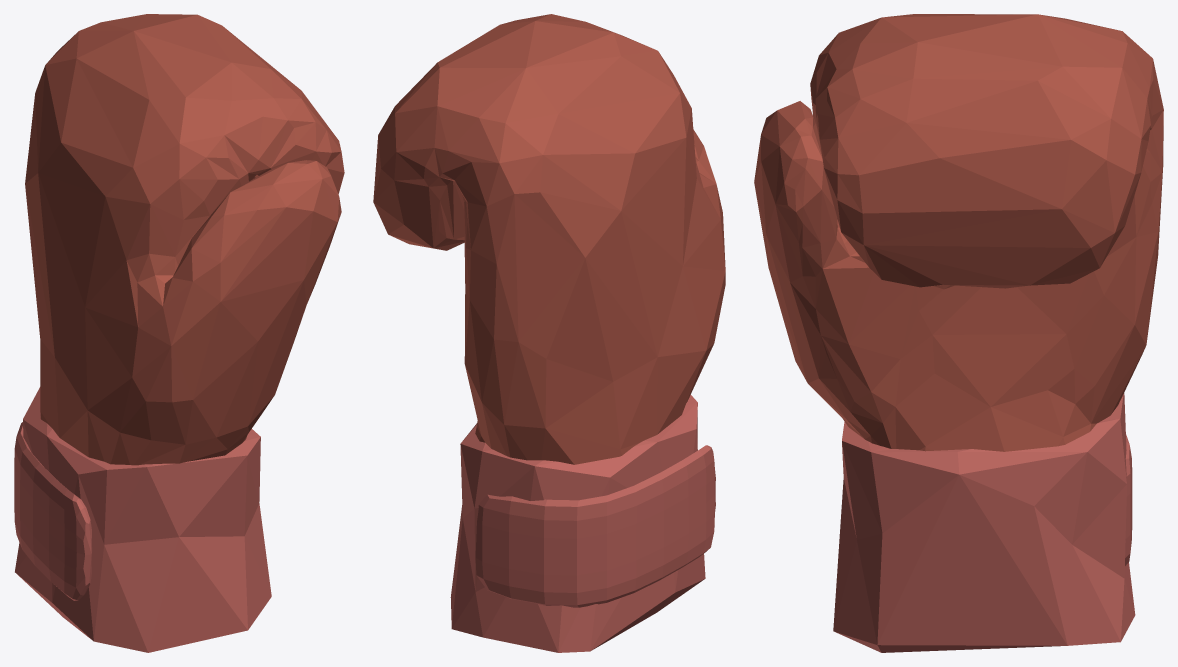
Rendered from scene_ZpLHFOrcH9.glb.
The picture shows the model from 3 angles, left to right: view 1: azimuth 30°, elevation 25°; view 2: azimuth 150°, elevation 25°; view 3: azimuth 270°, elevation 25°; orthographic projection. The views are drawn at different scales.
Parts seen in each view (by area): view 1: GloveLP_Cube.001; view 2: GloveLP_Cube.001; view 3: GloveLP_Cube.001.
Boxes of the visible parts, x1,y1,x2,y2 form: GloveLP_Cube.001: (14,14,344,652); GloveLP_Cube.001: (373,14,725,652); GloveLP_Cube.001: (754,14,1163,652).
Size of the model in its own units: 0.606 by 1.23 by 0.7531.
